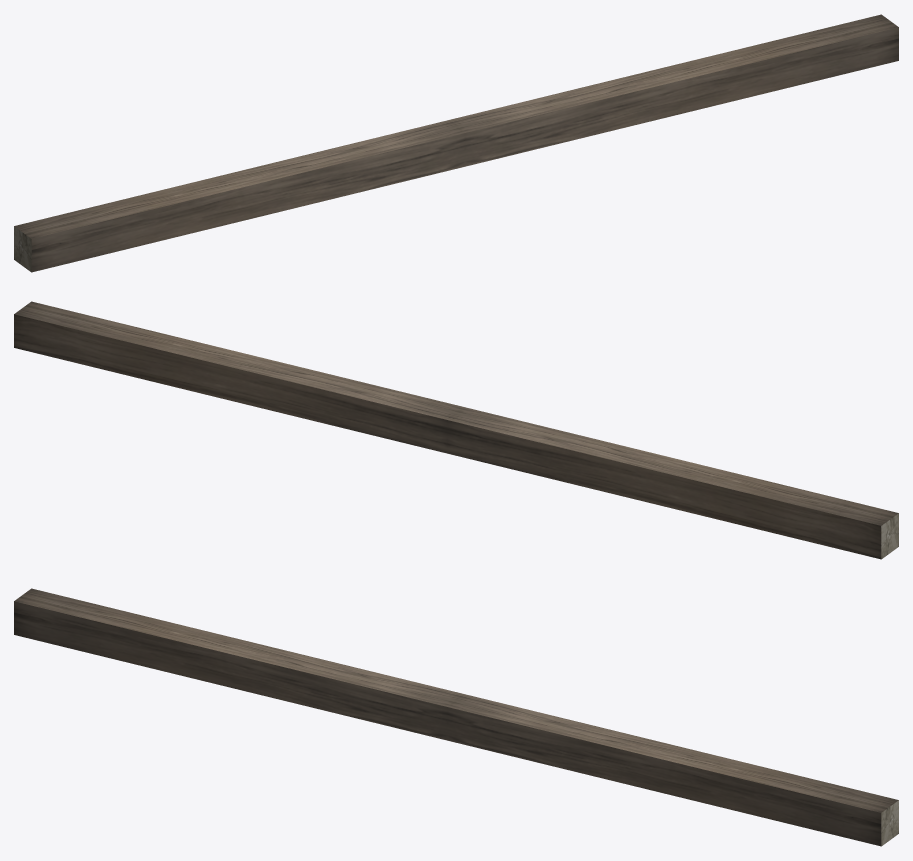
The model's file is Pole_B.fbx.
3 views of the same model, one above another, from view 1: azimuth 30°, elevation 25°; view 2: azimuth 150°, elevation 25°; view 3: azimuth 330°, elevation 25° (orthographic).
Visible parts, largest first — view 1: Pole_B; view 2: Pole_B; view 3: Pole_B.
Boxes of the visible parts, <box> form: Pole_B: <box>14,14,898,272</box>; Pole_B: <box>14,301,898,559</box>; Pole_B: <box>14,588,898,846</box>.
Size of the model in its own units: 4.01 by 0.1485 by 0.1403.
